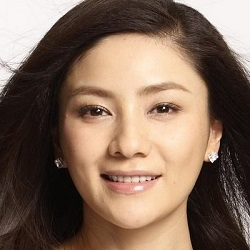unmask: (58, 37, 211, 233)
